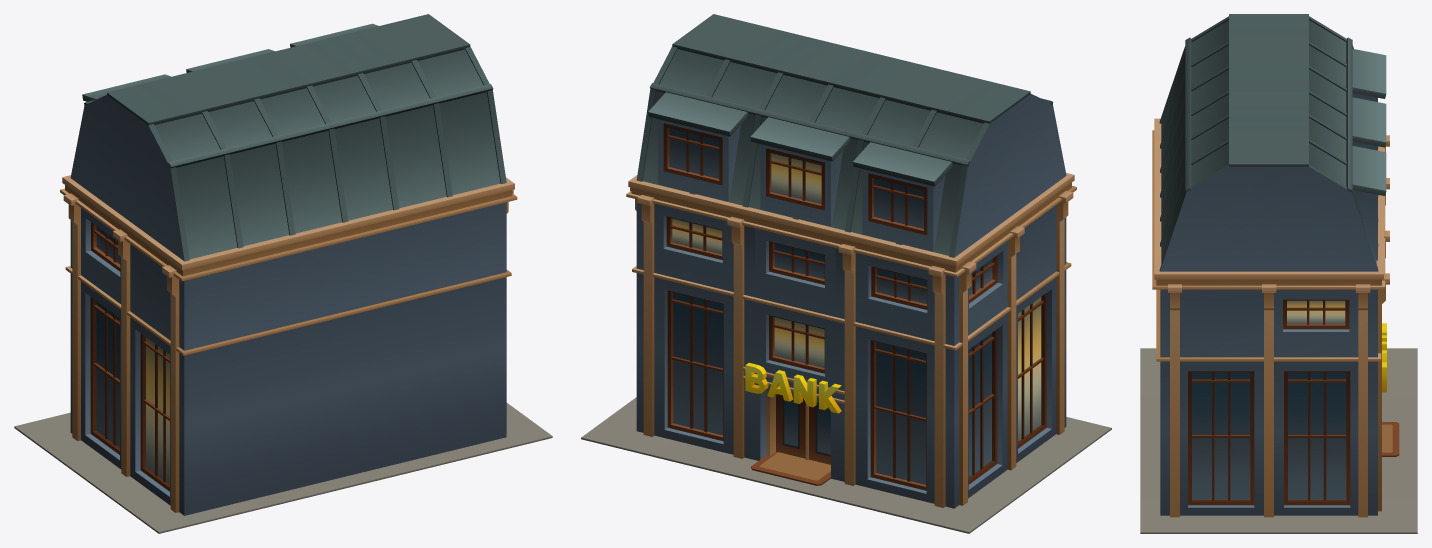
The model's file is BLD1210020.fbx.
3 views of the same model, side by side, from view 1: azimuth 30°, elevation 25°; view 2: azimuth 150°, elevation 25°; view 3: azimuth 270°, elevation 25° (orthographic). The views are drawn at different scales.
Parts seen in each view (by area): view 1: smBLD1210020; view 2: smBLD1210020; view 3: smBLD1210020.
Part boxes in pixels (x1=…): smBLD1210020: x1=14, y1=14, x2=552, y2=533; smBLD1210020: x1=581, y1=14, x2=1111, y2=533; smBLD1210020: x1=1140, y1=14, x2=1417, y2=533.
Bounding box in the file's own units: 1915 × 1713 × 1219.
1 material, 1 textured.
